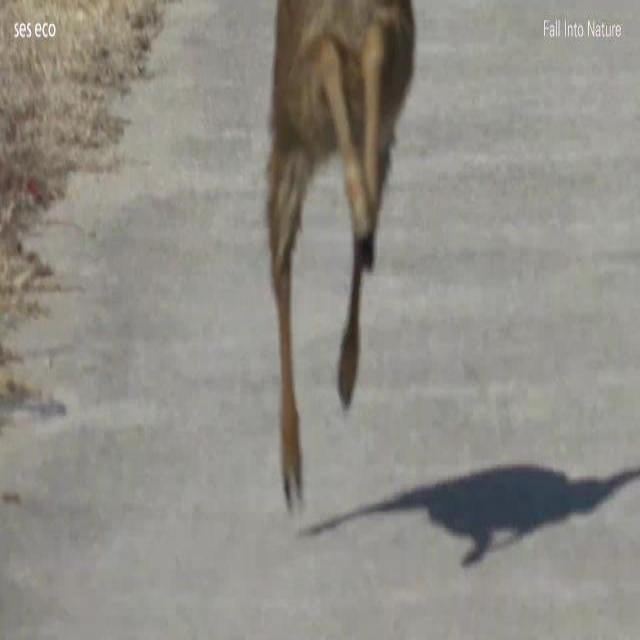deer: (267, 0, 417, 520)
